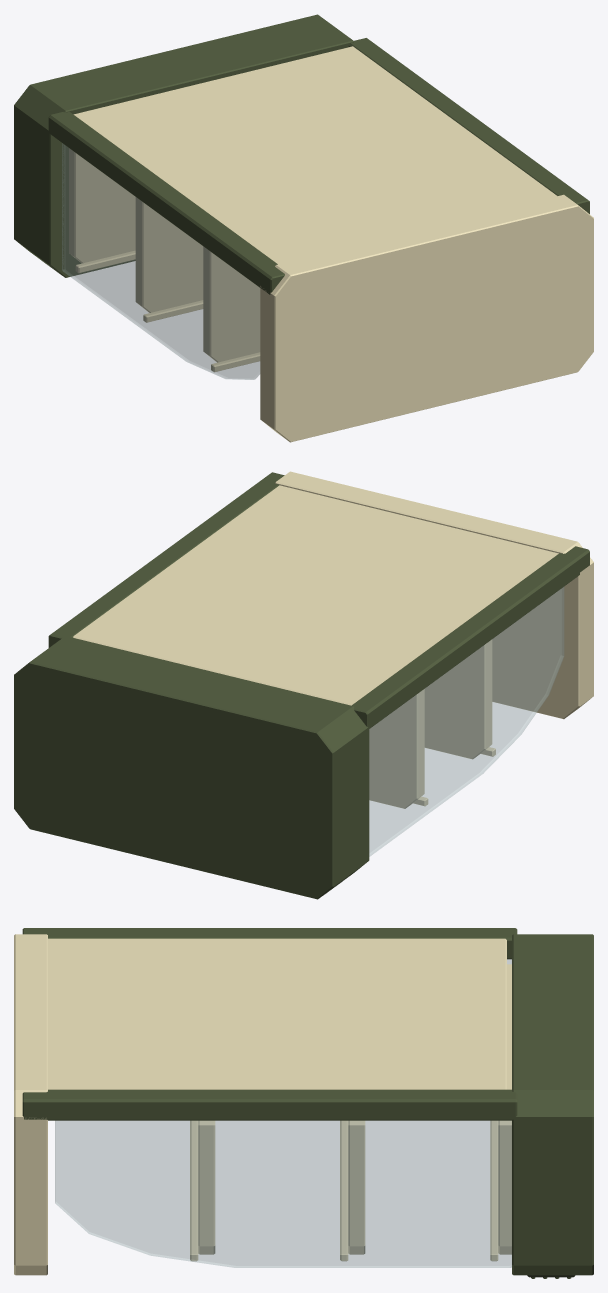
File: fixture_07_chilled_display.glb
3 views of the same model, one above another, from view 1: azimuth 30°, elevation 25°; view 2: azimuth 150°, elevation 25°; view 3: azimuth 270°, elevation 25° (orthographic). The views are drawn at different scales.
Parts seen in each view (by area): view 1: fixture_07_chilled_display; view 2: fixture_07_chilled_display; view 3: fixture_07_chilled_display.
Part boxes in pixels (x1=…): fixture_07_chilled_display: x1=14, y1=14, x2=593, y2=442; fixture_07_chilled_display: x1=14, y1=471, x2=593, y2=899; fixture_07_chilled_display: x1=14, y1=928, x2=593, y2=1278.
Size of what is drawn, in the model's own units: 1.2 by 0.626 by 1.7.
